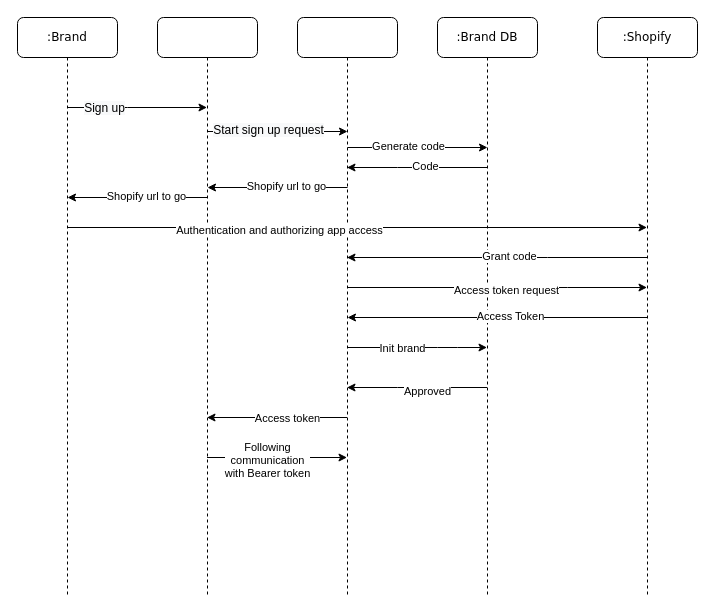
This 715x615 diagram has some shape labels left out. The shapes that lost their labels are listed below. From the top down, each one's box as (x1, y1, x2, y2) in pixels, then its label:
(156, 16, 258, 598): :Brand FE
(296, 16, 398, 598): :Brand BE
